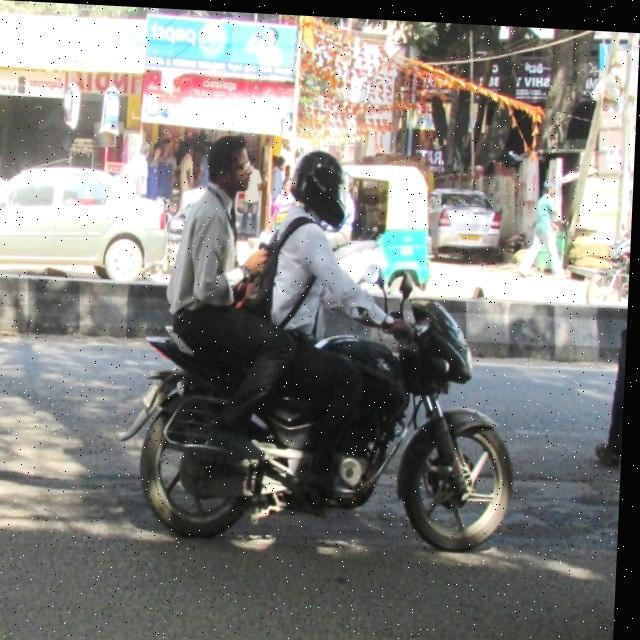Helmet: (290, 146, 355, 232)
